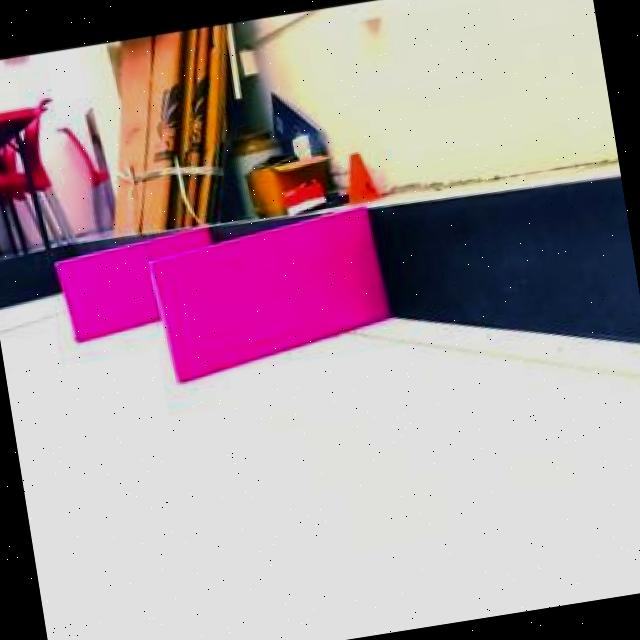xparking: (148, 225, 386, 366), (54, 243, 155, 334)
